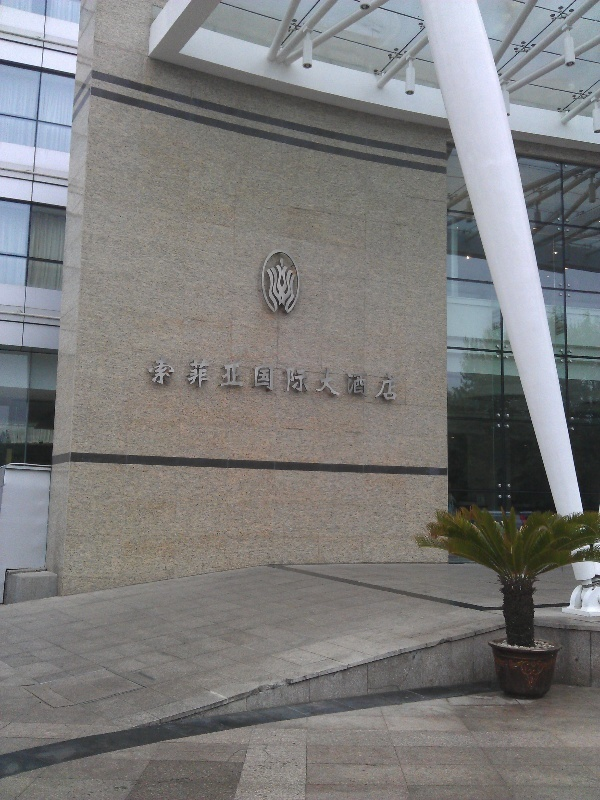text: (161, 354, 176, 402), (177, 354, 192, 402), (193, 354, 208, 402), (209, 354, 224, 402), (225, 354, 240, 402), (241, 354, 256, 402), (257, 354, 272, 402), (273, 354, 288, 402), (289, 354, 304, 402), (305, 354, 320, 402), (321, 354, 336, 402), (337, 354, 352, 402), (353, 354, 368, 402), (369, 354, 384, 402), (385, 354, 398, 402), (148, 354, 160, 402)
